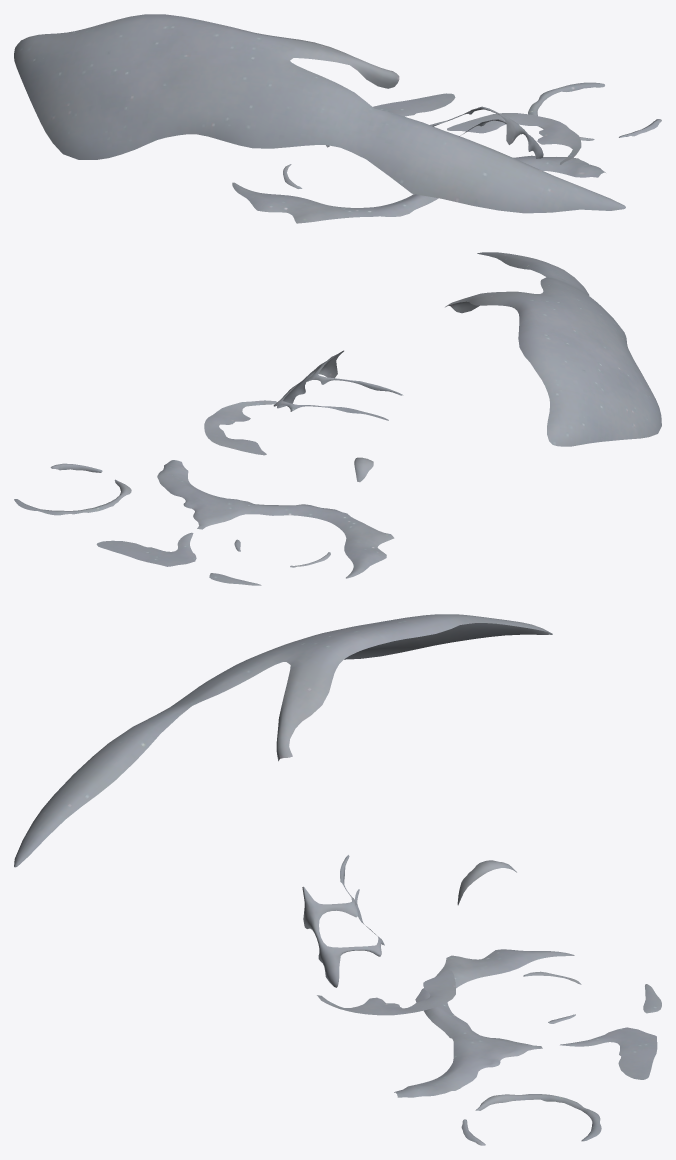
The model's file is pref_sm_beach_winter_originR_lv3.fbx.
The picture shows the model from 3 angles, top to bottom: view 1: azimuth 30°, elevation 25°; view 2: azimuth 150°, elevation 25°; view 3: azimuth 270°, elevation 25°; orthographic projection. The views are drawn at different scales.
Visible parts, largest first — view 1: pref_sm_beach_winter_originR_lv3; view 2: pref_sm_beach_winter_originR_lv3; view 3: pref_sm_beach_winter_originR_lv3.
Boxes of the visible parts, box(x1,y1,x2,y2) form: pref_sm_beach_winter_originR_lv3: box(14, 14, 661, 223); pref_sm_beach_winter_originR_lv3: box(14, 252, 661, 585); pref_sm_beach_winter_originR_lv3: box(14, 614, 661, 1145).
Size of the model in its own units: 43.76 by 16.6 by 36.85.
